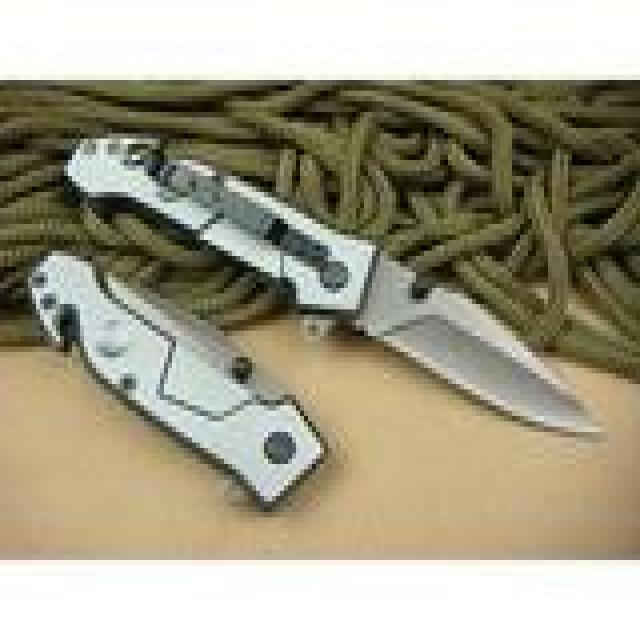Knife: (61, 104, 604, 440)
